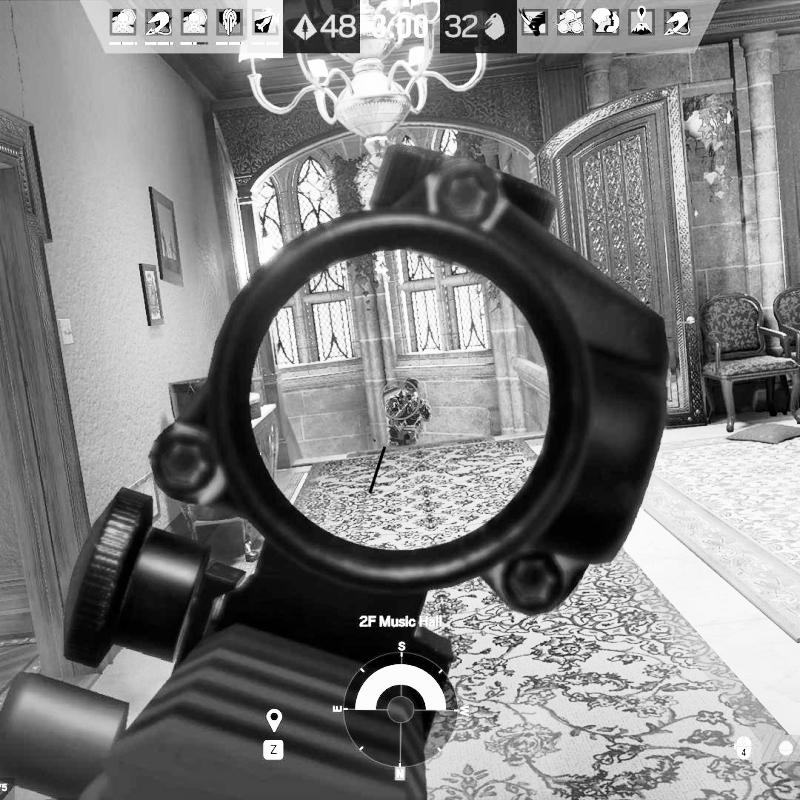Character: (379, 377, 434, 447)
Head: (402, 378, 420, 399)
